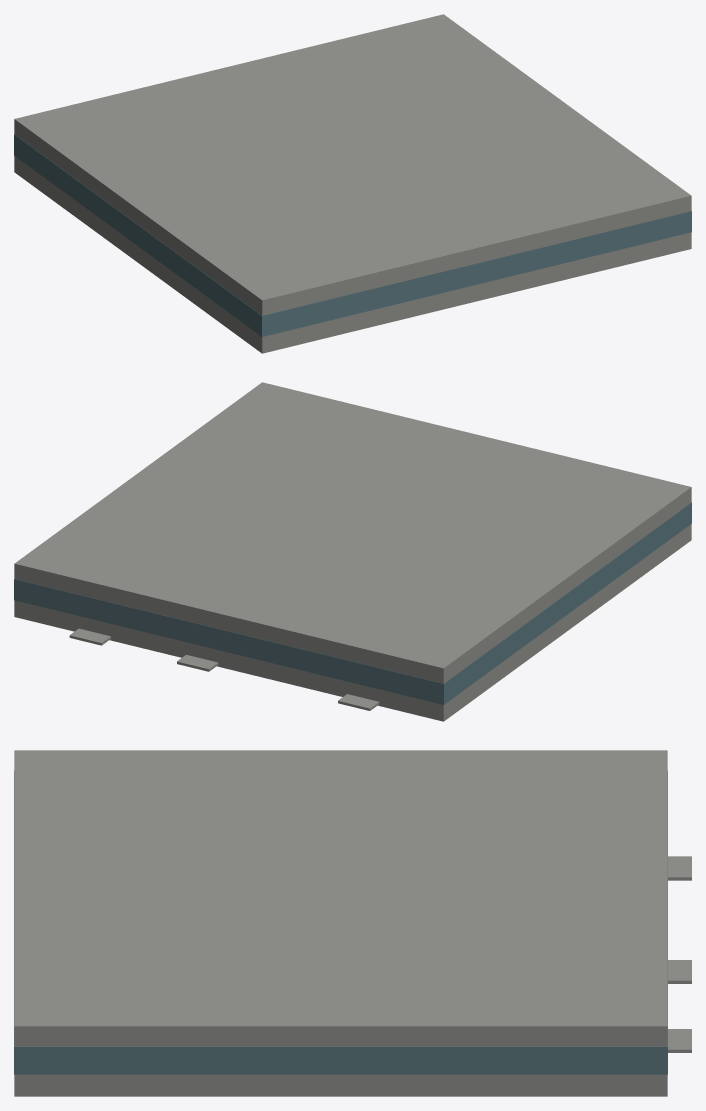
The model's file is tw_slab_32_floor_lod1.glb.
The picture shows the model from 3 angles, top to bottom: view 1: azimuth 30°, elevation 25°; view 2: azimuth 150°, elevation 25°; view 3: azimuth 270°, elevation 25°; orthographic projection. The views are drawn at different scales.
Visible parts, largest first — view 1: tw_slab_32_floor_lod1; view 2: tw_slab_32_floor_lod1; view 3: tw_slab_32_floor_lod1.
Part boxes in pixels (box(x1,y1,x2,y2)): tw_slab_32_floor_lod1: box(14, 14, 691, 353); tw_slab_32_floor_lod1: box(14, 382, 691, 721); tw_slab_32_floor_lod1: box(14, 750, 691, 1096).
Bounding box in the file's own units: 32.04 × 3.8 × 33.22.
Materials: 2 (2 with a texture image).
